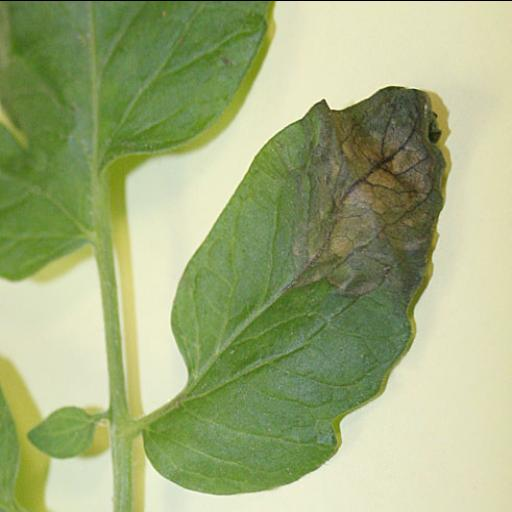Late Blight: (140, 85, 452, 495)
